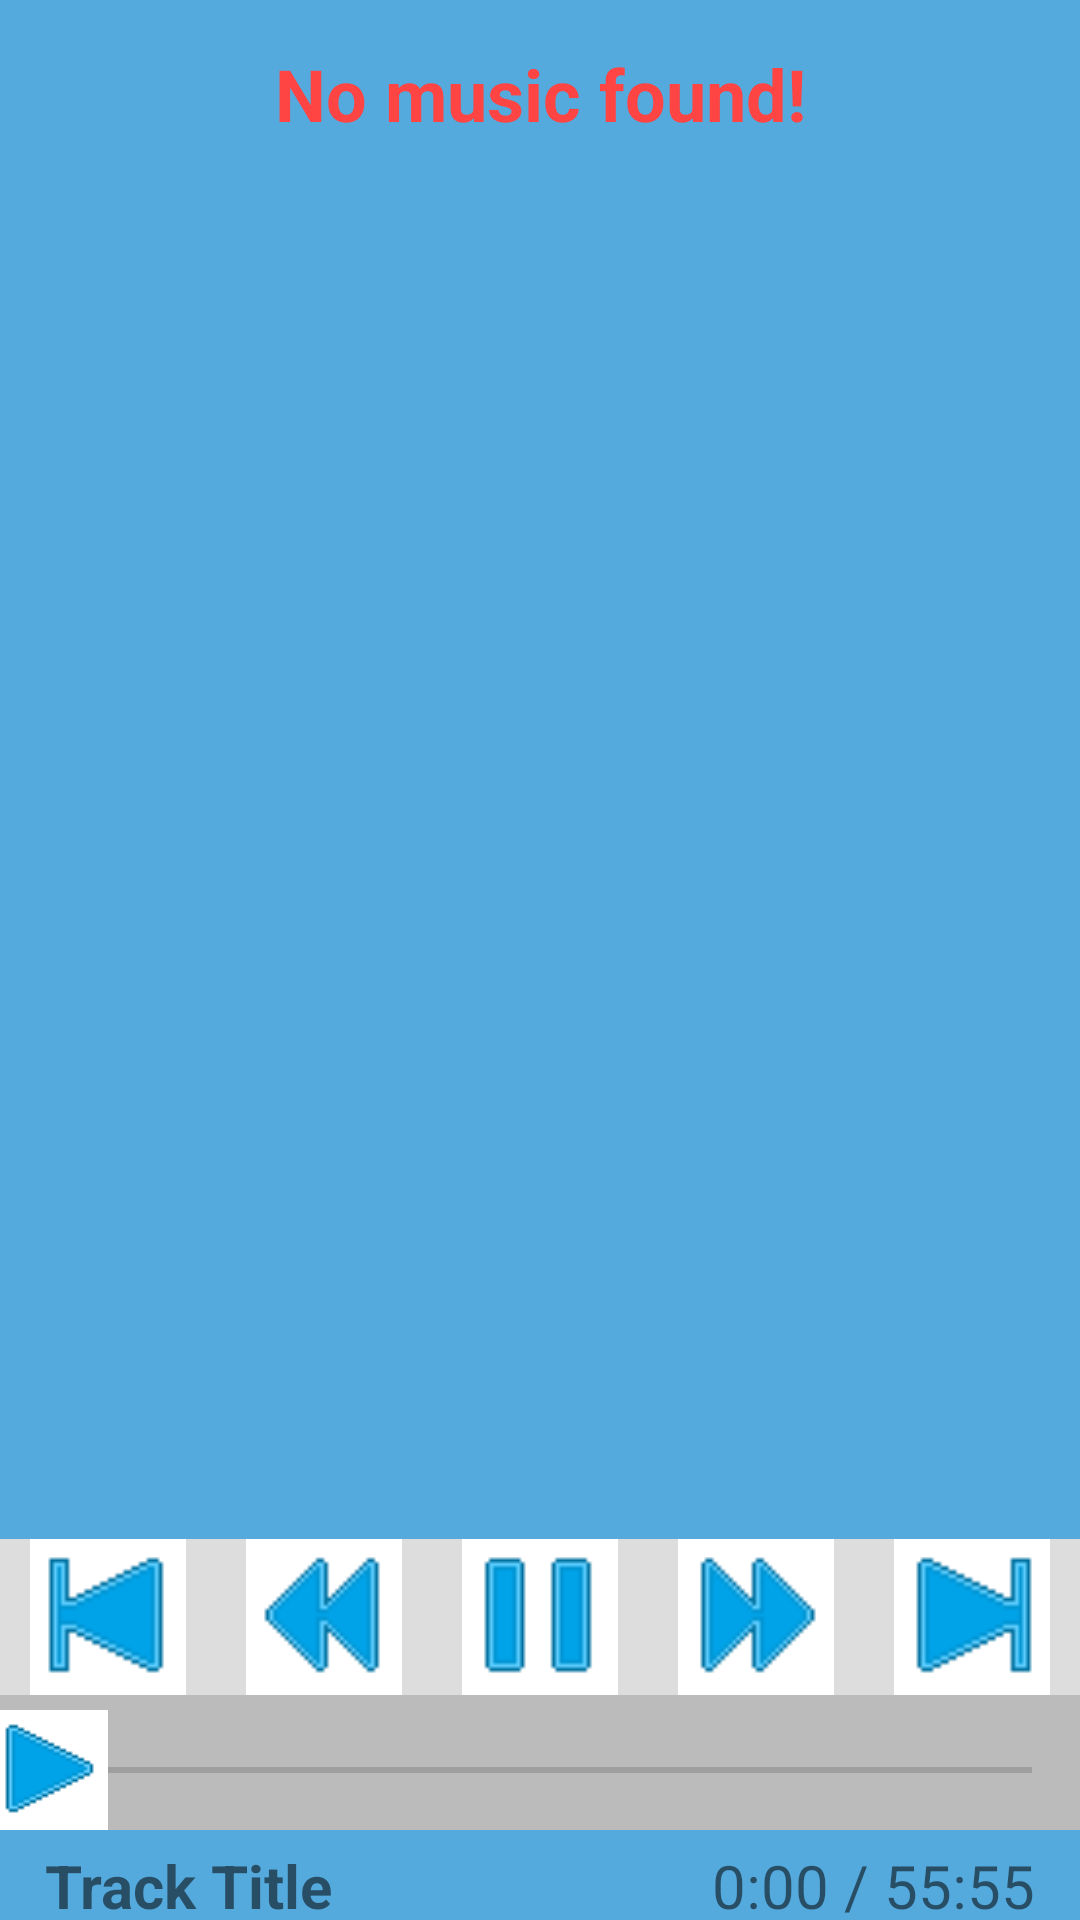

Screen size 1080w x 1920h. Icon name, then its center in pixels as (x=x, y=y):
forward: (x=756, y=1617)
next: (x=972, y=1617)
pause: (x=540, y=1617)
prev: (x=108, y=1617)
rewind: (x=324, y=1617)
